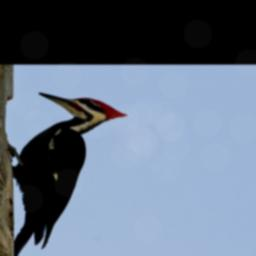Woodpecker: (9, 91, 132, 249)
